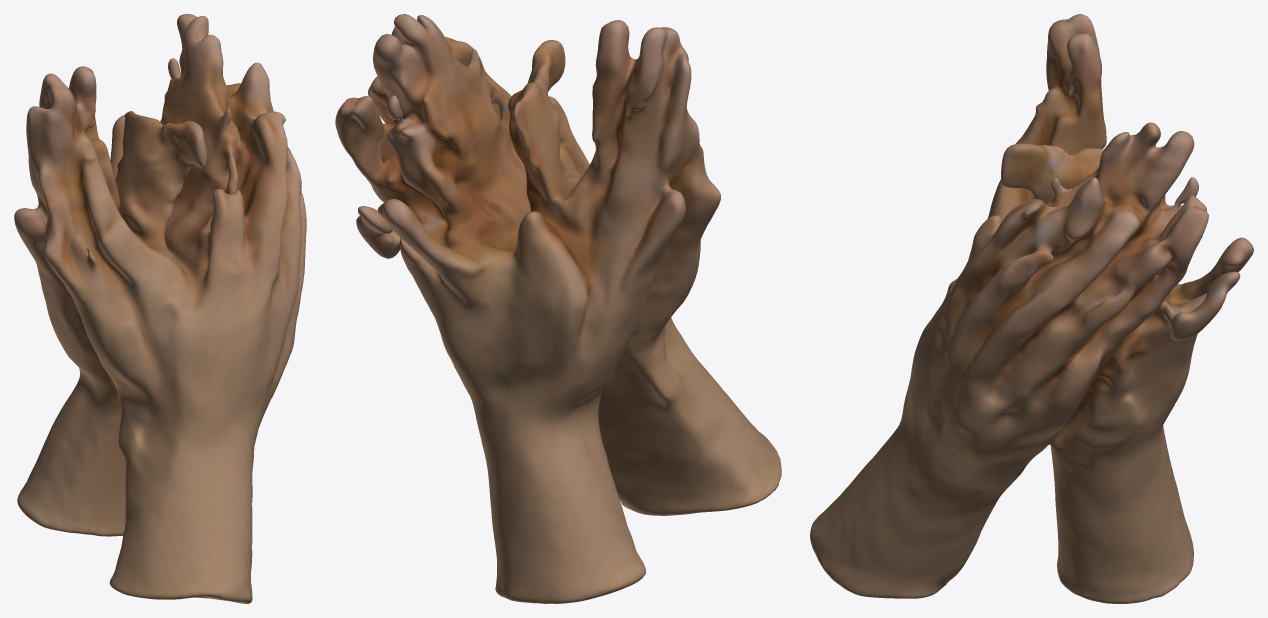
Rendered from 811f110e92c3_hands_sculpture__3d.fbx.
3 views of the same model, side by side, from view 1: azimuth 30°, elevation 25°; view 2: azimuth 150°, elevation 25°; view 3: azimuth 270°, elevation 25° (orthographic). The views are drawn at different scales.
Parts seen in each view (by area): view 1: high_poly; view 2: high_poly; view 3: high_poly.
Boxes of the visible parts, x1,y1,x2,y2 form: high_poly: [14, 14, 306, 603]; high_poly: [335, 14, 781, 603]; high_poly: [810, 14, 1253, 603].
Size of the model in its own units: 56.68 by 100 by 75.65.
